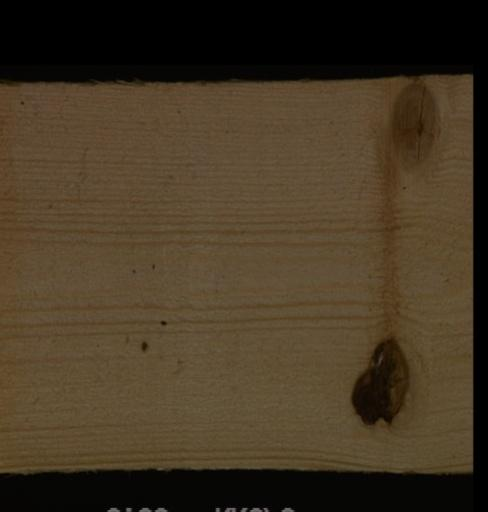edge_knot: (387, 79, 439, 168)
small_knot: (138, 339, 148, 352)
